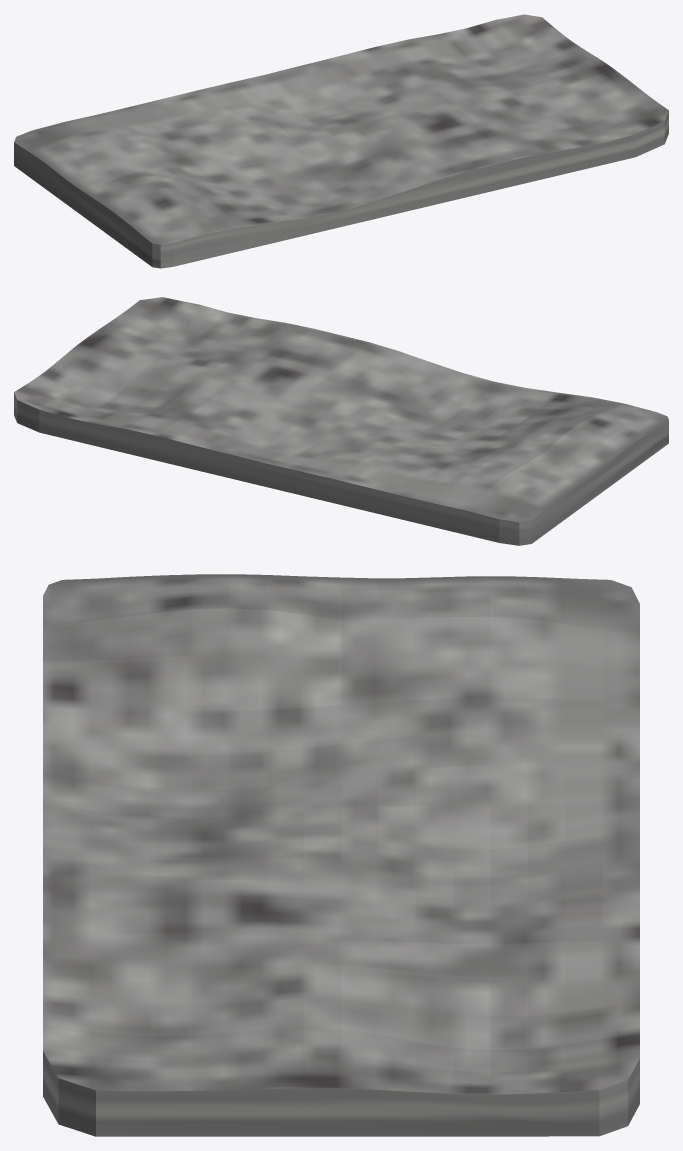
The model's file is colchon.obj.
3 views of the same model, one above another, from view 1: azimuth 30°, elevation 25°; view 2: azimuth 150°, elevation 25°; view 3: azimuth 270°, elevation 25° (orthographic). The views are drawn at different scales.
Parts seen in each view (by area): view 1: Colchon_Cube.030; view 2: Colchon_Cube.030; view 3: Colchon_Cube.030.
Part boxes in pixels (bbox=[...]): Colchon_Cube.030: bbox=[14, 14, 668, 268]; Colchon_Cube.030: bbox=[14, 297, 668, 545]; Colchon_Cube.030: bbox=[43, 574, 639, 1136].
Size of the model in its own units: 3.04 by 0.2119 by 1.51.
Materials: 1 (1 with a texture image).
